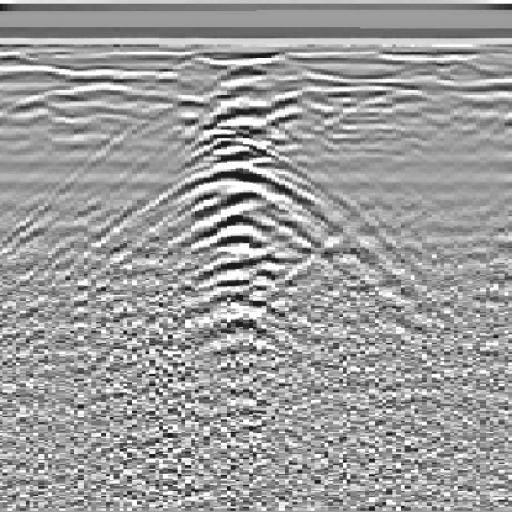metalic: (100, 74, 387, 374)
